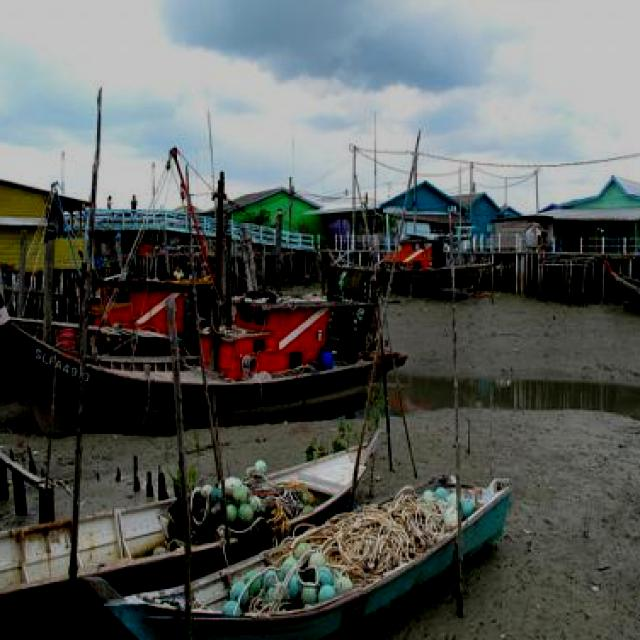ship: (0, 119, 398, 430), (92, 461, 516, 640), (0, 422, 381, 614), (321, 222, 488, 292), (601, 257, 640, 317)
